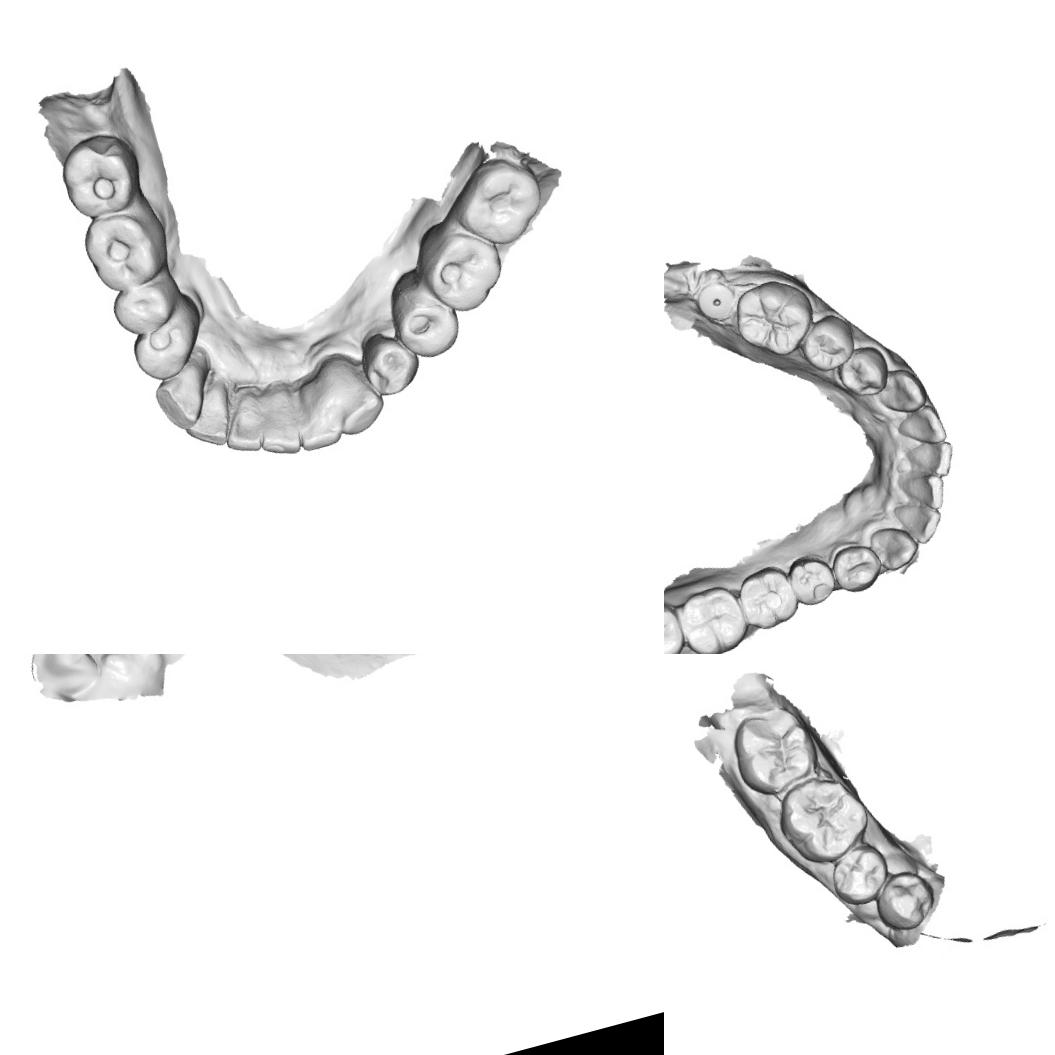canine: (317, 352, 390, 442), (148, 363, 216, 437), (865, 518, 924, 575), (872, 363, 930, 420)
implant: (692, 276, 739, 324)
incisor: (173, 380, 240, 454), (246, 390, 308, 464), (284, 382, 344, 454), (212, 392, 272, 462), (890, 493, 948, 551), (890, 400, 949, 454), (902, 436, 960, 485), (896, 468, 950, 518)
molar: (439, 147, 550, 257), (407, 211, 515, 321), (776, 768, 881, 870), (726, 700, 825, 800), (52, 125, 150, 224), (726, 271, 823, 366), (76, 202, 171, 298), (673, 580, 752, 654), (732, 560, 802, 634), (664, 596, 692, 654)
premolar: (383, 274, 467, 366), (123, 311, 206, 386), (352, 320, 426, 402), (103, 269, 184, 340), (824, 838, 896, 908), (868, 864, 937, 936), (792, 308, 861, 378), (830, 340, 894, 403), (826, 538, 886, 597), (784, 550, 838, 610)
